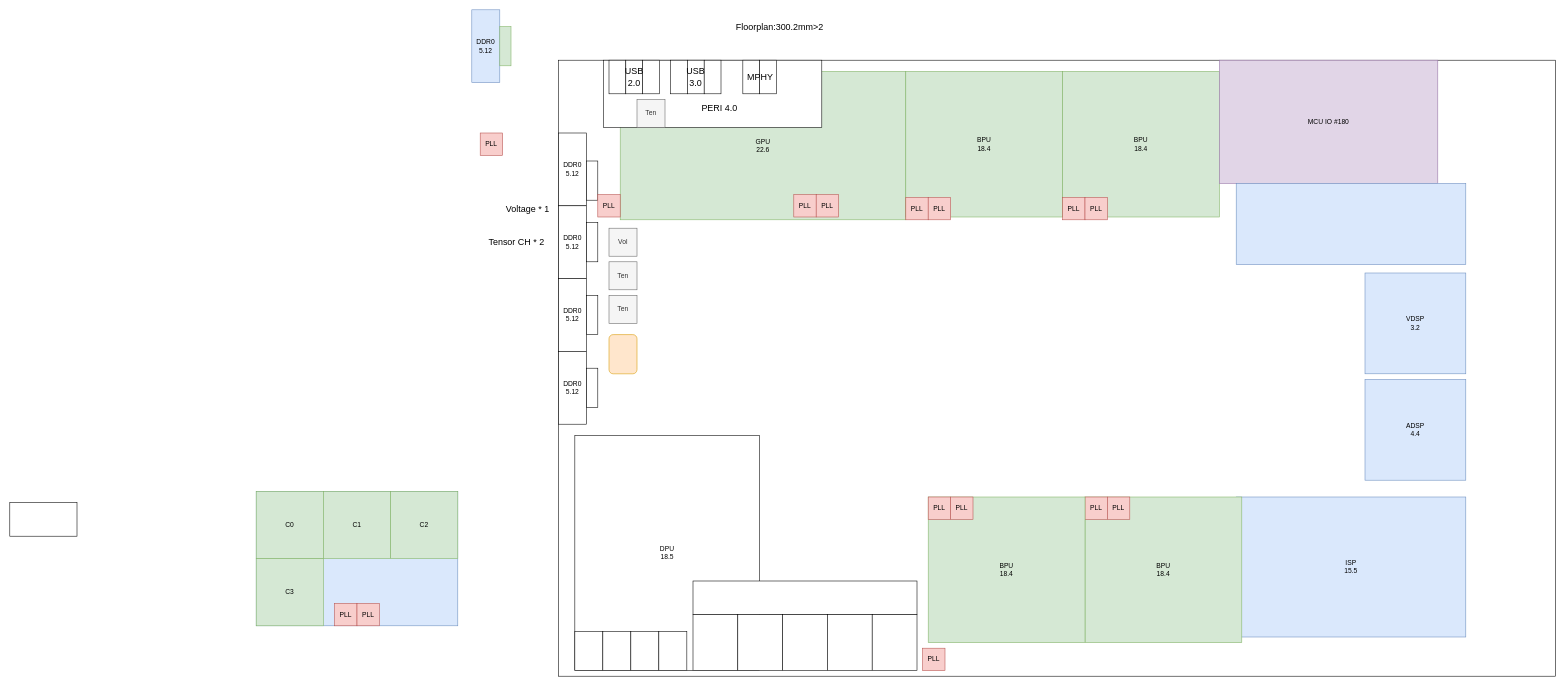
This 1565x686 diagram has some shape labels left out. The centre of each missing label's shape, as x and y in pixels:
"DFT FUSE" goes at point 622,354.
"PCIE/ETH 5.35" goes at point 804,597.
"VPU 7.5" goes at point 1351,224.
